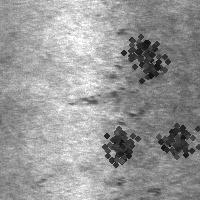rolled-in_scale: (99, 32, 163, 180), (113, 24, 173, 84), (149, 113, 199, 163), (94, 121, 140, 167)
